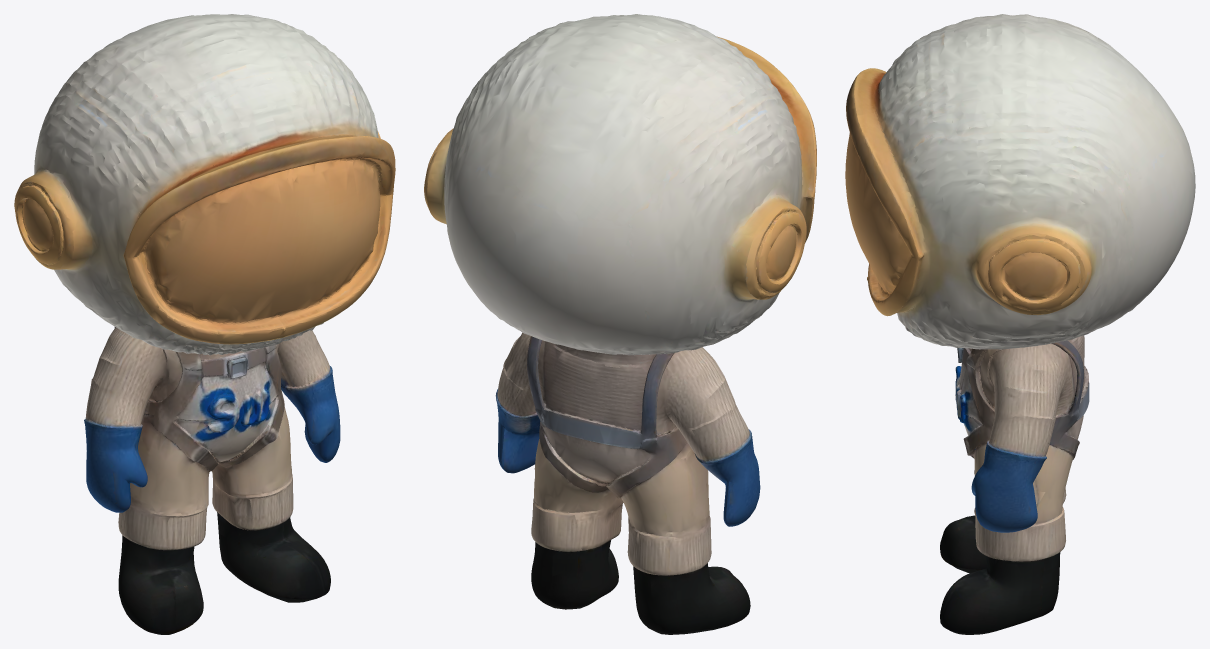
File: sai.glb
3 renders of one model, left to right at view 1: azimuth 30°, elevation 25°; view 2: azimuth 150°, elevation 25°; view 3: azimuth 270°, elevation 25°, orthographic. The views are drawn at different scales.
Parts seen in each view (by area): view 1: model; view 2: model; view 3: model.
Part boxes in pixels (box(x1,y1,x2,y2)): model: box(14, 14, 395, 634); model: box(424, 14, 816, 634); model: box(845, 14, 1195, 634).
Bounding box in the file's own units: 1.16 × 1.9 × 1.07.
1 material, 1 textured.
